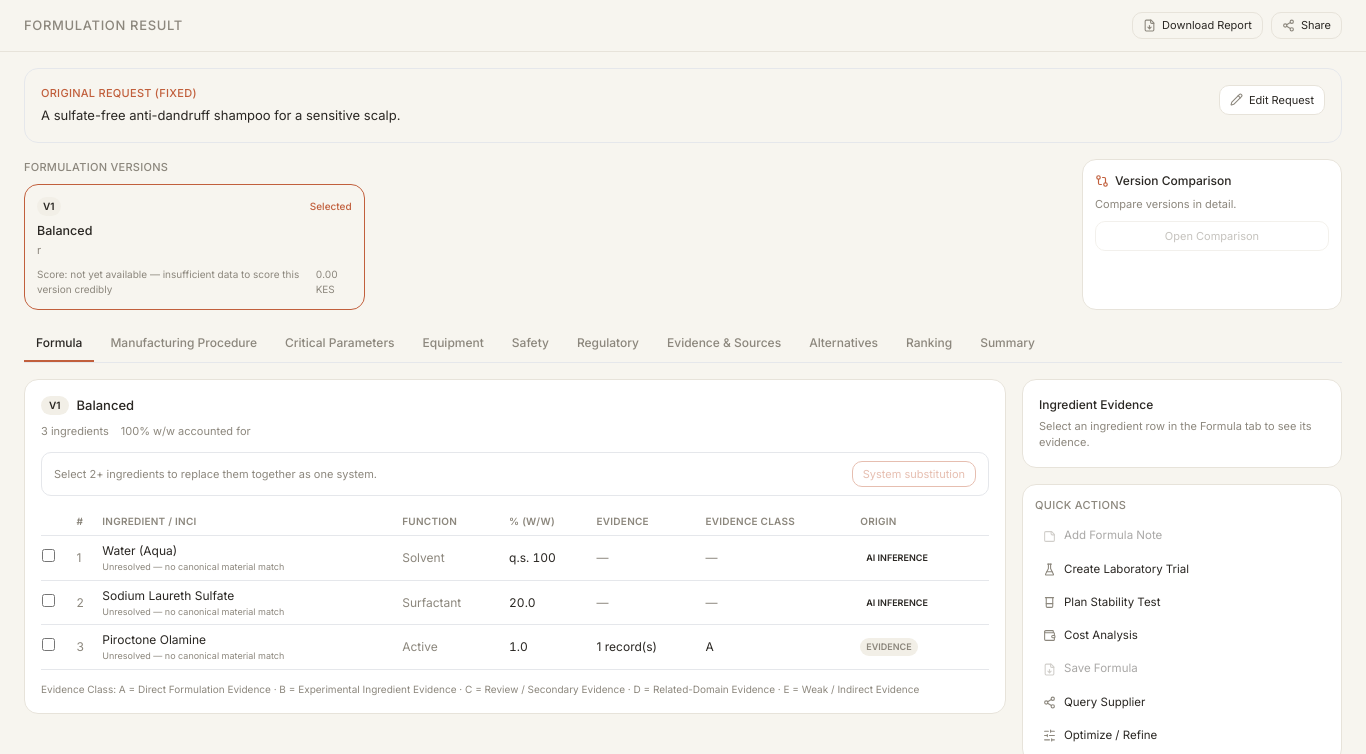
Scenario: FormulationResultPage — Session 4 provenance/origin/mass-balance/corpus wiring › Evidence & Sources tab shows real, separate corpus counters — never conflating corpus size with evidence-record count
Expected: the text "Piroctone Olamine" is shown, [102,632,206,647]
Click the tab "Evidence & Sources".
click(724, 344)  # box [655,326,793,362]
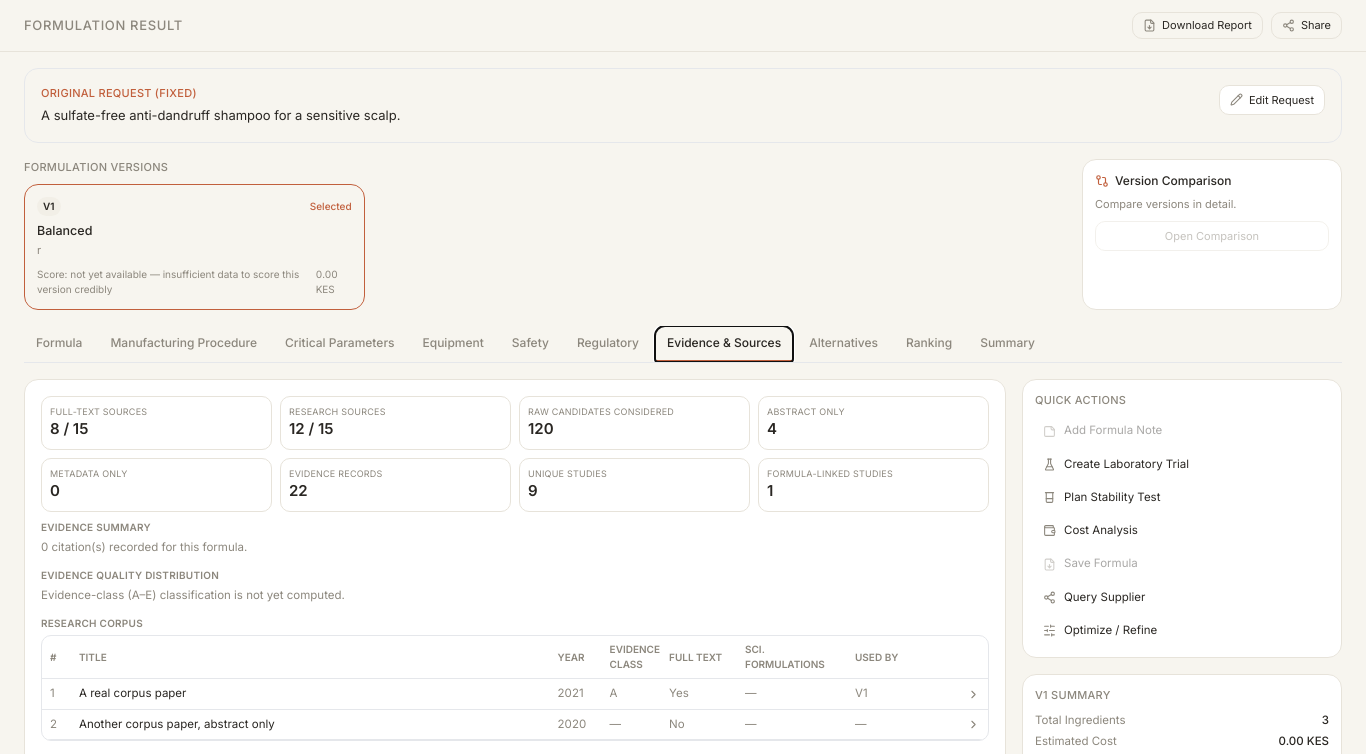
Result: the text "12 / 15" is shown at [289,419,334,438]
Result: the text "9" is shown at [528,481,538,500]
Result: the text "22" is shown at [289,481,308,500]
